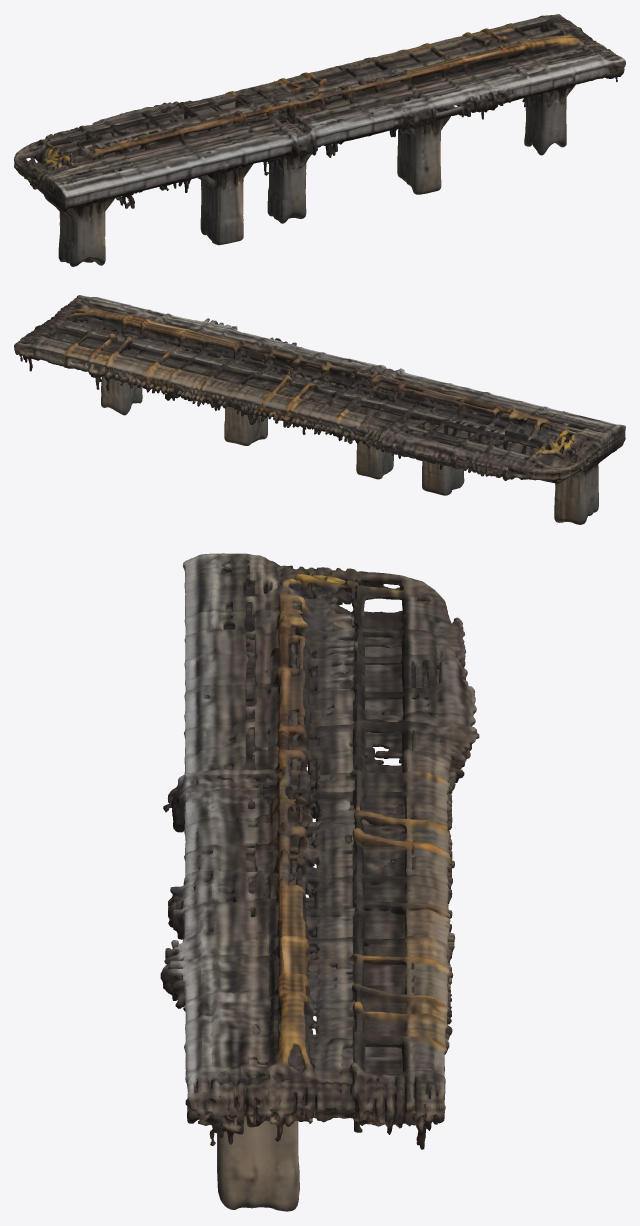
The model's file is viaduct.glb.
The picture shows the model from 3 angles, top to bottom: view 1: azimuth 30°, elevation 25°; view 2: azimuth 150°, elevation 25°; view 3: azimuth 270°, elevation 25°; orthographic projection. The views are drawn at different scales.
Visible parts, largest first — view 1: world; view 2: world; view 3: world.
Boxes of the visible parts, x1,y1,x2,y2 form: world: (14, 14, 625, 266); world: (14, 295, 625, 524); world: (160, 553, 479, 1211).
Bounding box in the file's own units: 45 × 8.58 × 11.29.
Materials: 1 (1 with a texture image).
